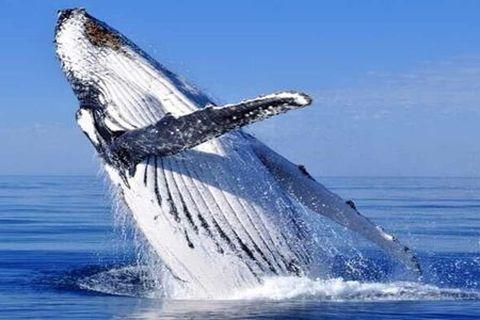fish: (57, 10, 426, 294)
